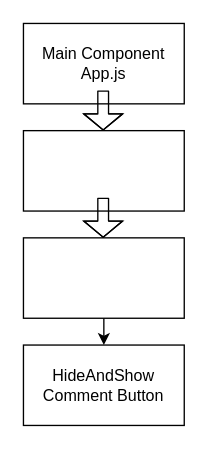
Image size: 208x449. Some labels were removed from this diagram. Each missing label, with the centre of its shape:
"LikeDislikeButton" goes at point (103, 277).
"Video" goes at point (103, 170).
